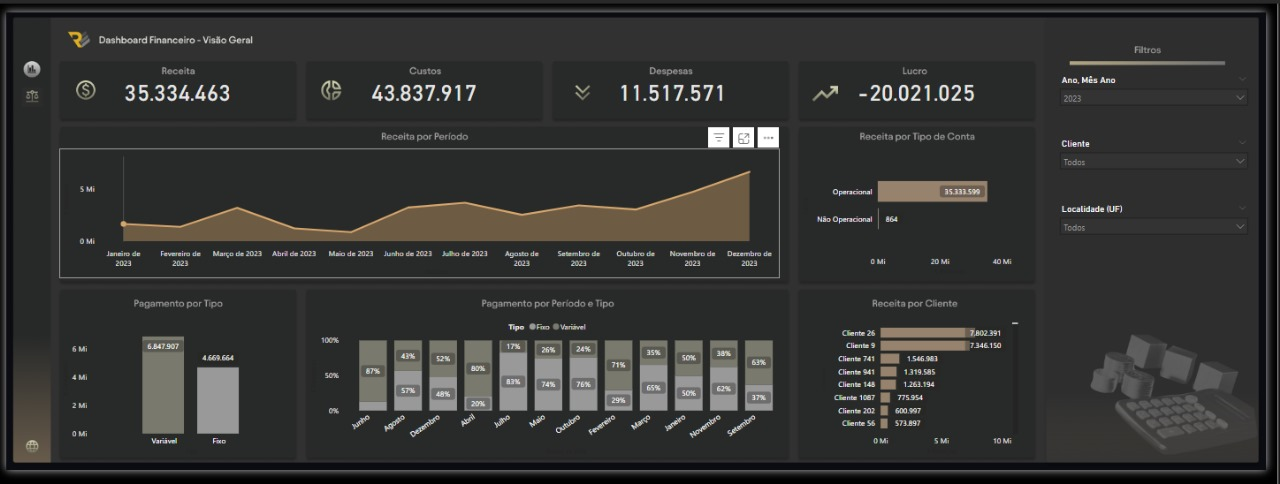

Layout of this report page (visuals, bound fields, positions):
{"tool":"powerbi","page":{"name":"Visão Geral","canvas":[2035,740],"ordinal":0},"visuals":[{"type":"card","fields":{"Values":["_Medidas.# Receitas"]},"box":[86,82,382,90],"z":0},{"type":"card","fields":{"Values":["_Medidas.# Custos"]},"box":[483.8,81.2,381.2,90],"z":1},{"type":"card","fields":{"Values":["_Medidas.# Despesas"]},"box":[885,81.2,381.2,90],"z":2},{"type":"card","fields":{"Values":["_Medidas.# Lucro"]},"box":[1280,81.2,381.2,90],"z":3},{"type":"slicer","fields":{"Values":["d_calendario.Ano","d_calendario.Período"]},"box":[1692.9,96.1,324.3,90],"z":4},{"type":"stackedAreaChart","fields":{"Y":["_Medidas.# Receitas"],"Category":["d_calendario.Período"]},"box":[85.7,220,1164.3,210],"z":5},{"type":"clusteredBarChart","fields":{"Category":["d_contas.conta"],"Y":["_Medidas.# Receitas"]},"box":[1282,220,380,210],"z":6},{"type":"columnChart","fields":{"Y":["_Medidas.# Despesas"],"Category":["d_contas.tipo"]},"box":[85,488.3,380,231.7],"z":7},{"type":"hundredPercentStackedColumnChart","fields":{"Y":["_Medidas.# Despesas"],"Category":["d_calendario.Nome do Mês"],"Series":["d_contas.tipo"]},"box":[485.7,488.6,781.4,231.4],"z":8},{"type":"clusteredBarChart","fields":{"Y":["_Medidas.# Receitas"],"Category":["f_recebidos.cliente"]},"box":[1310,488.6,330,231.4],"z":9},{"type":"slicer","fields":{"Values":["f_recebidos.cliente"]},"box":[1692.9,199,324.3,90],"z":10},{"type":"slicer","fields":{"Values":["f_recebidos.uf"]},"box":[1692.9,304.7,324.3,90],"z":11},{"type":"actionButton","box":[25,121,34,32],"z":12}]}

Visuals, with their boxes on the page's 2035x740 design canvas (x1, y1, x2, y2). These are canvas units, not pixel positions in the 1280x484 screenshot, which may show the page scaled, cropped or inside an application window:
card - _Medidas.# Receitas: Rect(86, 82, 468, 172)
card - _Medidas.# Custos: Rect(484, 81, 865, 171)
card - _Medidas.# Despesas: Rect(885, 81, 1266, 171)
card - _Medidas.# Lucro: Rect(1280, 81, 1661, 171)
slicer - d_calendario.Ano x d_calendario.Período: Rect(1693, 96, 2017, 186)
stackedAreaChart - _Medidas.# Receitas x d_calendario.Período: Rect(86, 220, 1250, 430)
clusteredBarChart - d_contas.conta x _Medidas.# Receitas: Rect(1282, 220, 1662, 430)
columnChart - _Medidas.# Despesas x d_contas.tipo: Rect(85, 488, 465, 720)
hundredPercentStackedColumnChart - _Medidas.# Despesas x d_calendario.Nome do Mês: Rect(486, 489, 1267, 720)
clusteredBarChart - _Medidas.# Receitas x f_recebidos.cliente: Rect(1310, 489, 1640, 720)
slicer - f_recebidos.cliente: Rect(1693, 199, 2017, 289)
slicer - f_recebidos.uf: Rect(1693, 305, 2017, 395)
actionButton: Rect(25, 121, 59, 153)
